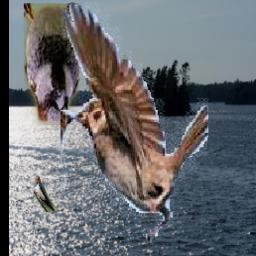Sparrow: (62, 3, 209, 242), (25, 4, 81, 126)
Swallow: (35, 175, 60, 212)
